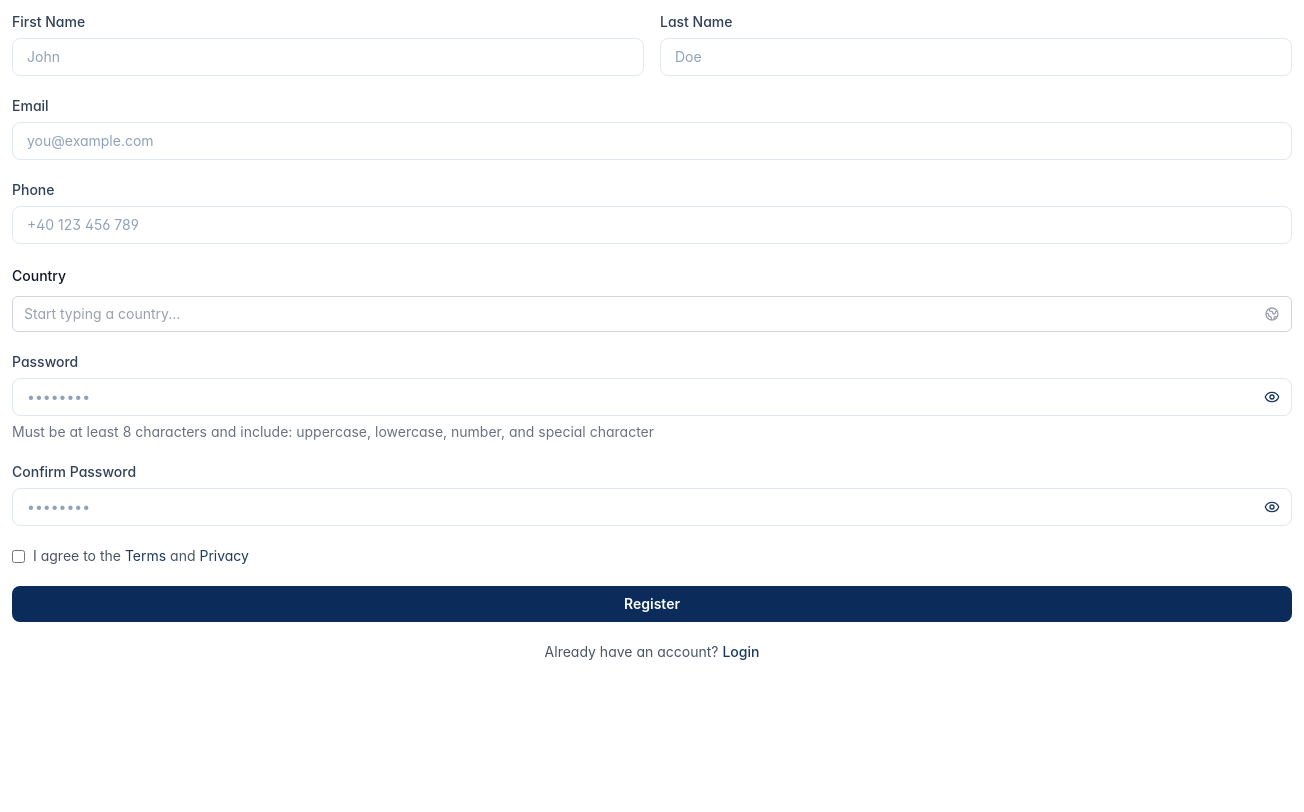
Test: Register Page › Form Validation › should show error for empty first name
Click the button "Register" at (652, 604), box [12,586,1292,622]
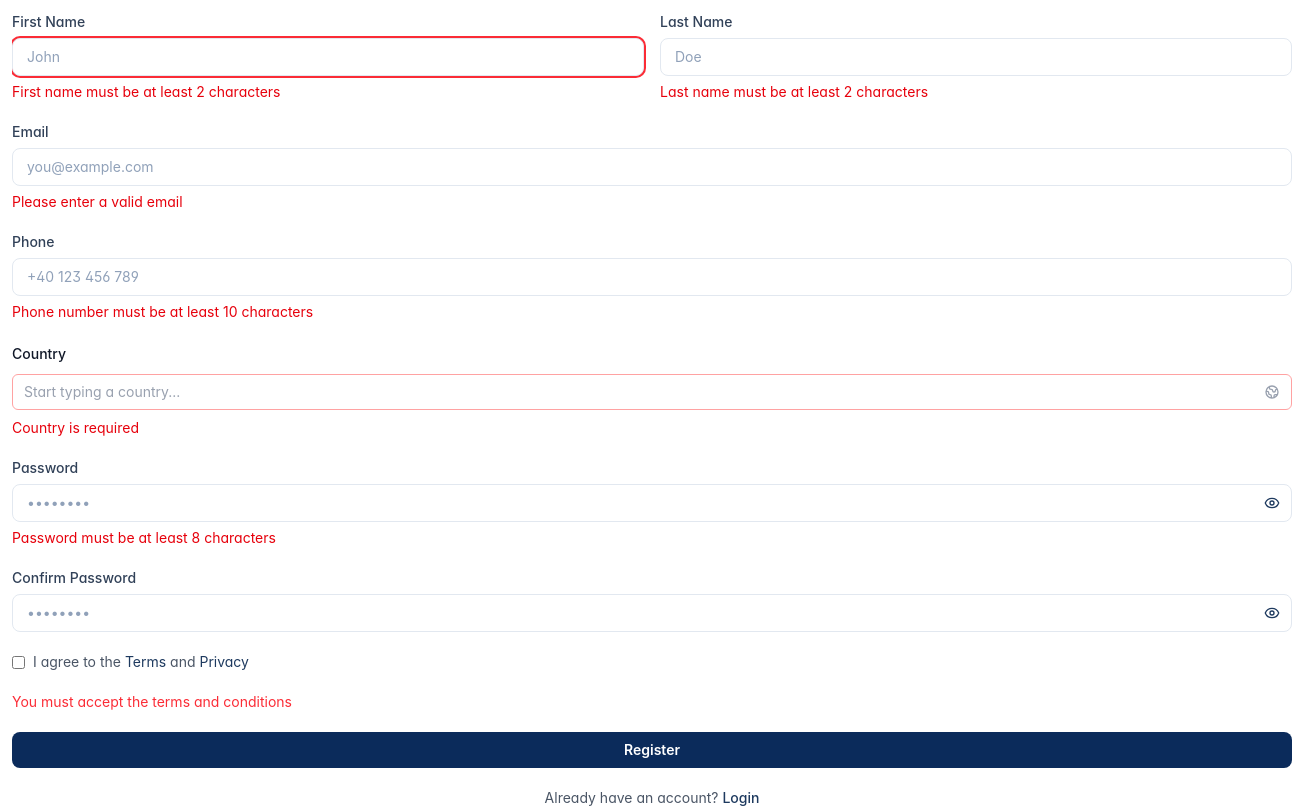
Expected: the text "First name must be at least 2 characters" is shown, [12,83,280,100]
